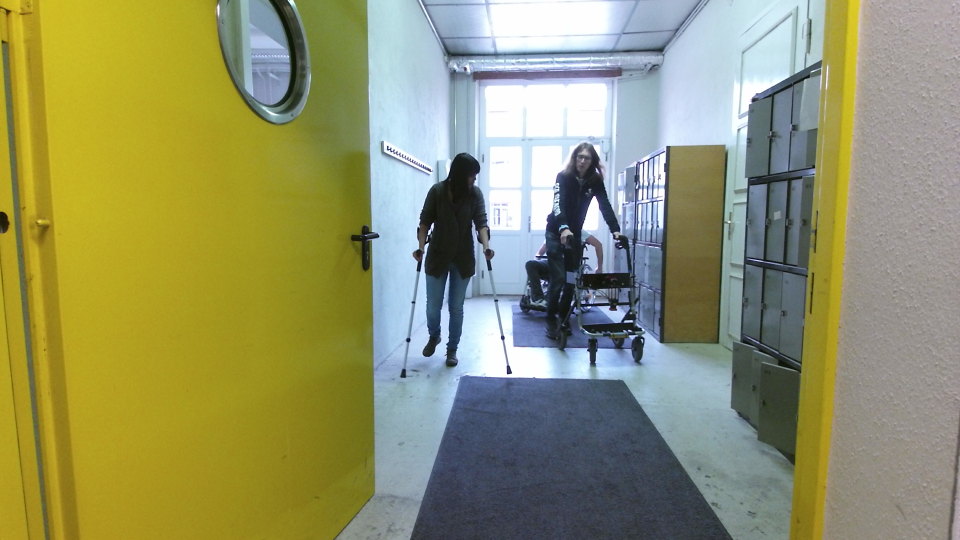crutches: (398, 156, 514, 382)
